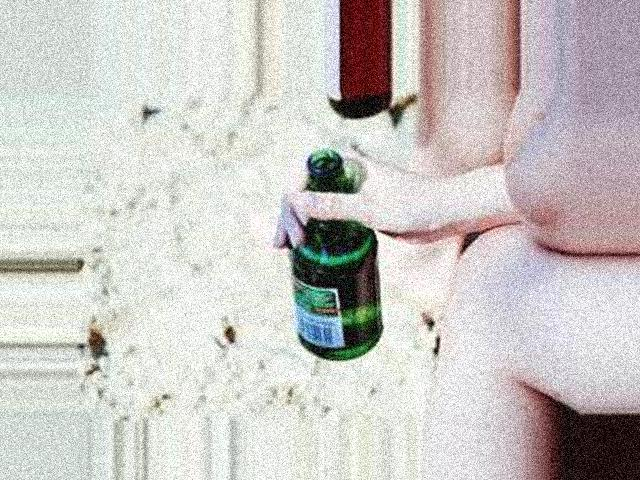beer: (290, 148, 384, 361)
